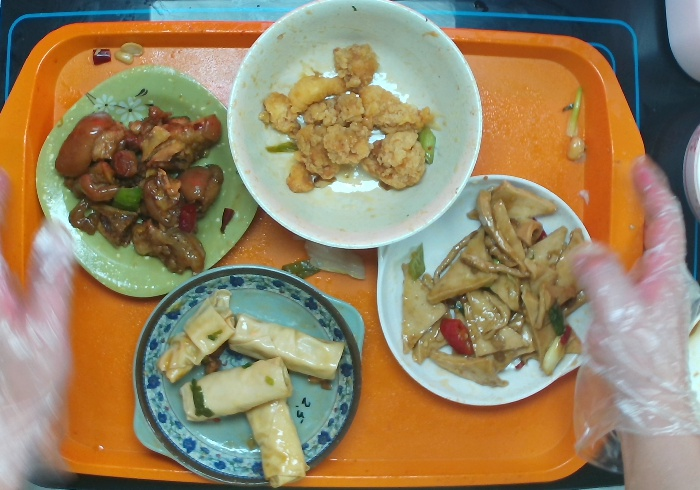NLDX-Bai_Se_Shuang_Er_Die: (366, 174, 605, 412)
NLDX-Bai_Se_Yuan_Wan: (229, 1, 483, 247)
NLDX-Lv_Hua_Fang_Die: (31, 64, 261, 301)
NLDX-Qing_Hua_Shuang_Er_Die: (131, 267, 372, 490)
